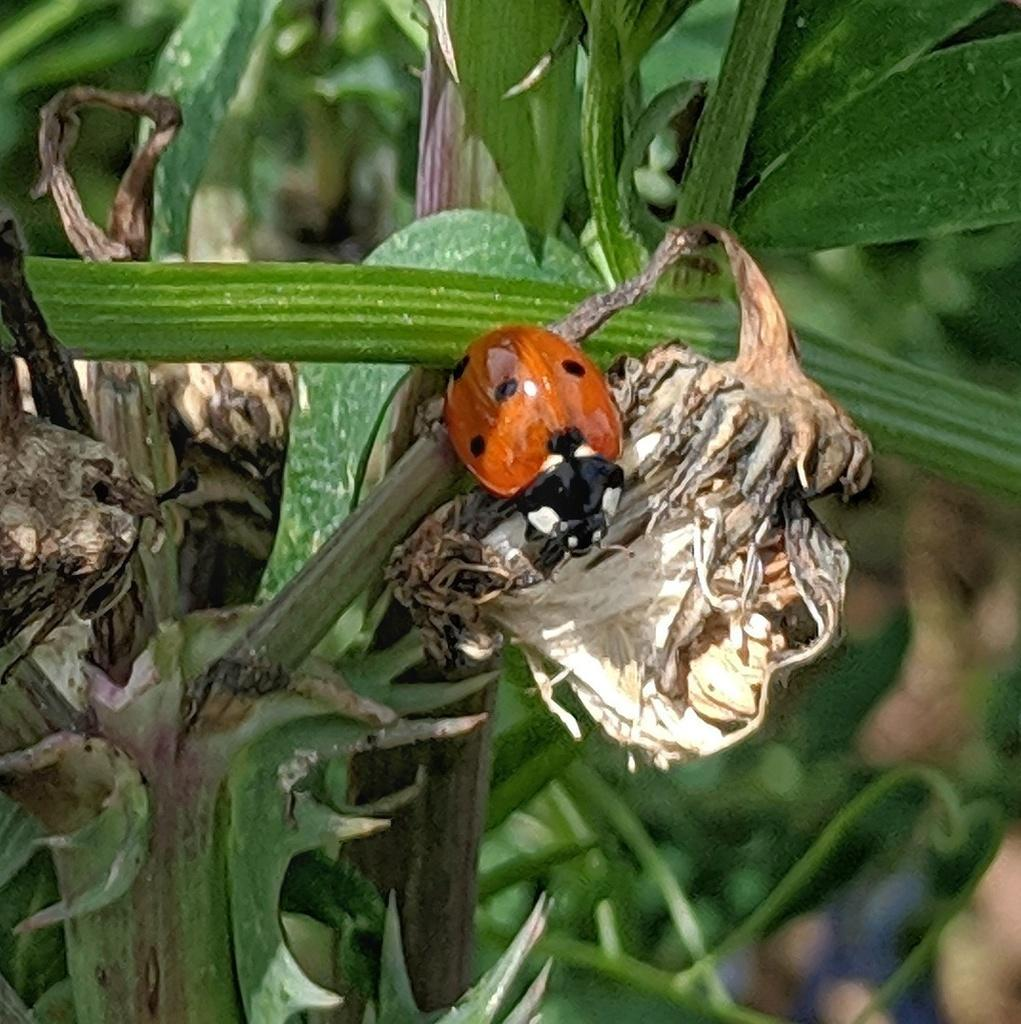ladybug: (426, 319, 644, 576)
